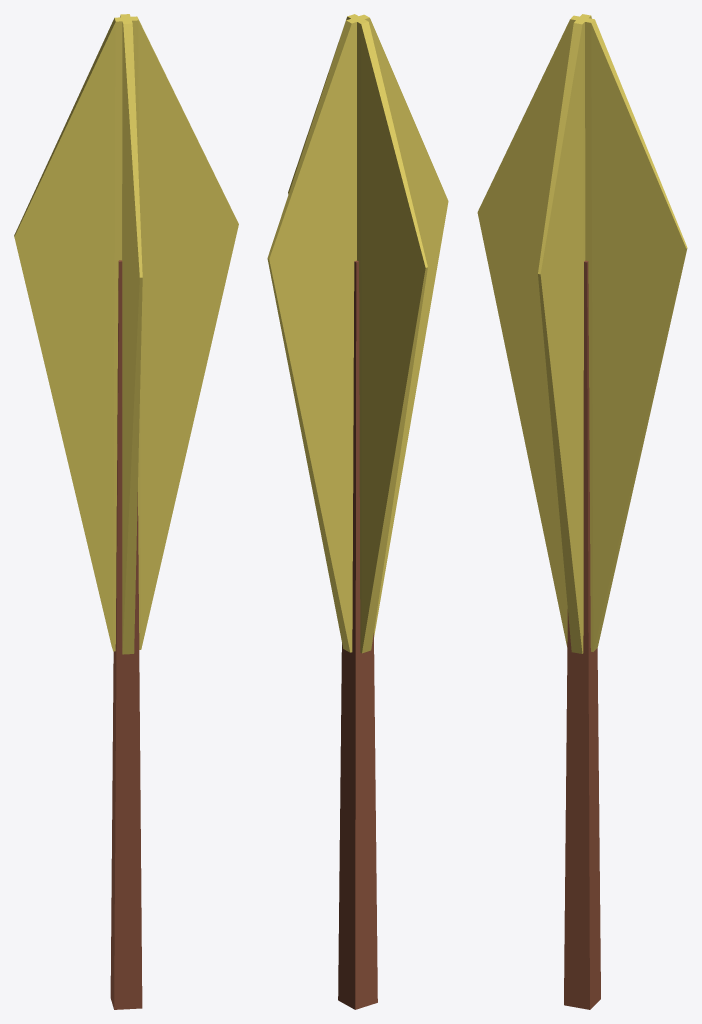
The model's file is Tree_32_autumn_pal.fbx.
3 views of the same model, side by side, from view 1: azimuth 30°, elevation 25°; view 2: azimuth 150°, elevation 25°; view 3: azimuth 270°, elevation 25° (orthographic).
Visible parts, largest first — view 1: Tree_32_autumn_pal; view 2: Tree_32_autumn_pal; view 3: Tree_32_autumn_pal.
Boxes of the visible parts, bbox=[...] form: Tree_32_autumn_pal: bbox=[14, 14, 238, 1009]; Tree_32_autumn_pal: bbox=[267, 14, 448, 1009]; Tree_32_autumn_pal: bbox=[477, 14, 687, 1009].
Bounding box in the file's own units: 48.99 × 253 × 48.99.
